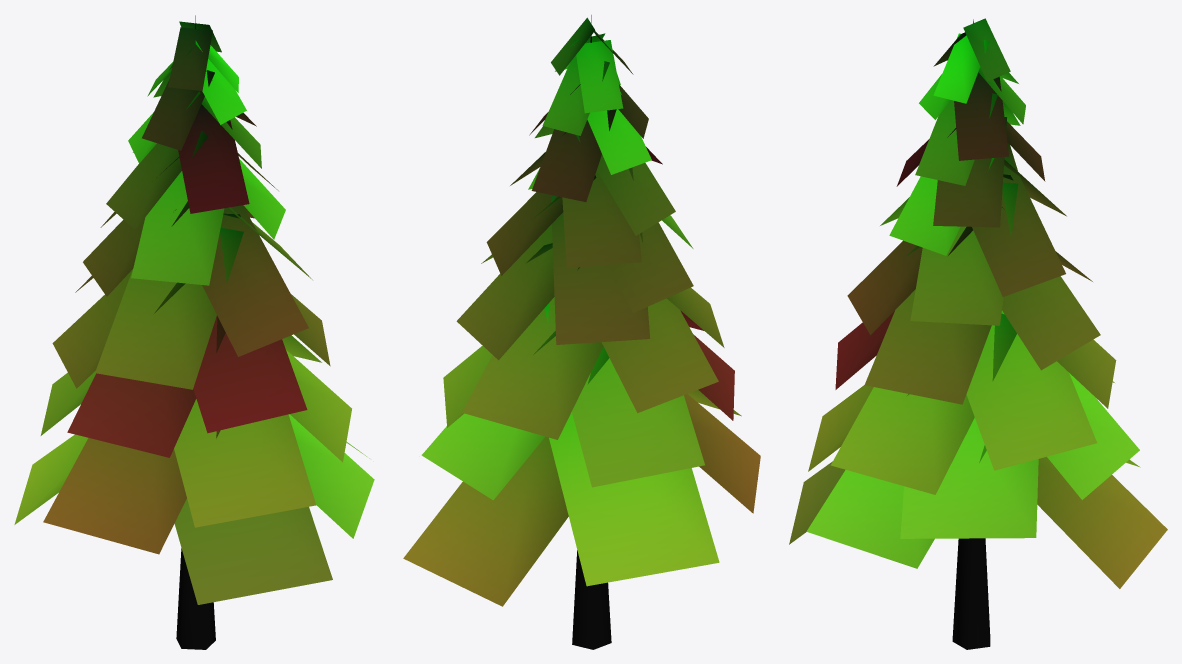
Rendered from SuperPine_1_4.fbx.
The picture shows the model from 3 angles, left to right: view 1: azimuth 30°, elevation 25°; view 2: azimuth 150°, elevation 25°; view 3: azimuth 270°, elevation 25°; orthographic projection.
Visible parts, largest first — view 1: SuperPine_1_4; view 2: SuperPine_1_4; view 3: SuperPine_1_4.
Part boxes in pixels (x1,y1,x2,y2): SuperPine_1_4: (14, 15, 374, 649); SuperPine_1_4: (403, 15, 760, 649); SuperPine_1_4: (789, 18, 1167, 649).
Bounding box in the file's own units: 373 × 725 × 397.
